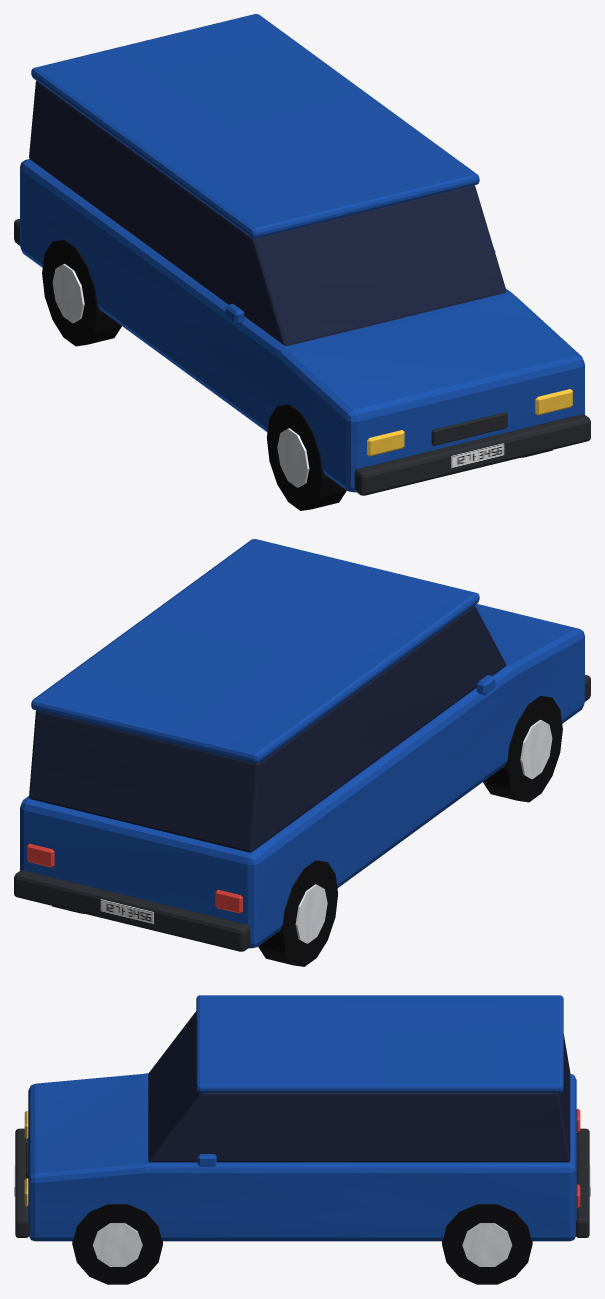
Rendered from ParkedCar_SUV.glb.
3 views of the same model, one above another, from view 1: azimuth 30°, elevation 25°; view 2: azimuth 150°, elevation 25°; view 3: azimuth 270°, elevation 25° (orthographic). The views are drawn at different scales.
Parts seen in each view (by area): view 1: Body, Glass, Details, Wheels; view 2: Body, Glass, Wheels, Details; view 3: Body, Glass, Wheels, Details.
Boxes of the visible parts, left/top/right/bottom form: Body: left=20, top=14, right=584, bottom=492; Glass: left=29, top=81, right=506, bottom=346; Details: left=14, top=219, right=590, bottom=495; Wheels: left=42, top=240, right=552, bottom=510; Body: left=20, top=539, right=584, bottom=948; Glass: left=29, top=605, right=506, bottom=852; Wheels: left=52, top=696, right=562, bottom=966; Details: left=14, top=675, right=590, bottom=951; Body: left=28, top=995, right=576, bottom=1241; Glass: left=148, top=1011, right=570, bottom=1162; Wheels: left=72, top=1204, right=532, bottom=1284; Details: left=14, top=1108, right=590, bottom=1237.
Bounding box in the file's own units: 2.08 × 1.82 × 4.84.
Materials: 1 (1 with a texture image).
